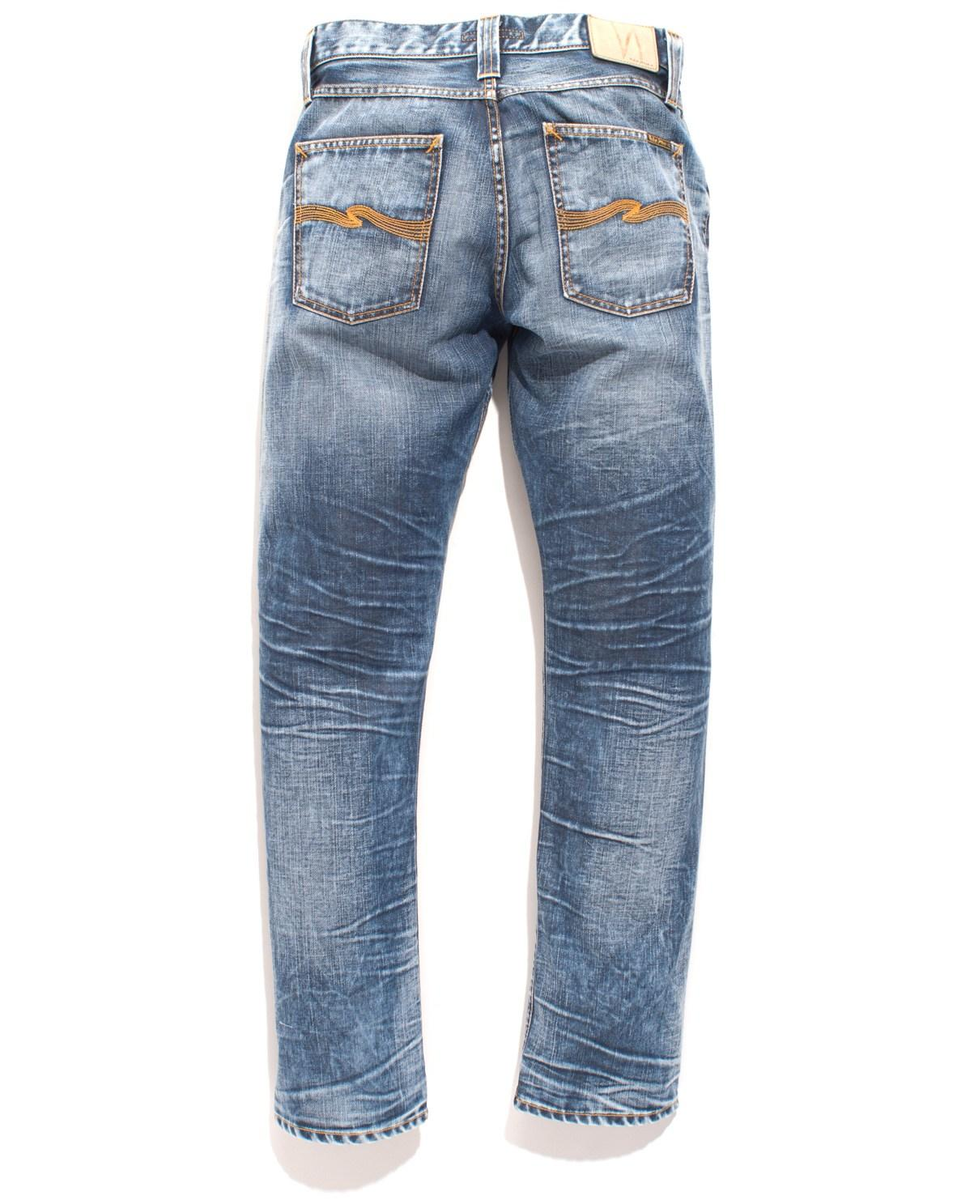Jeans: (242, 0, 727, 1161)
